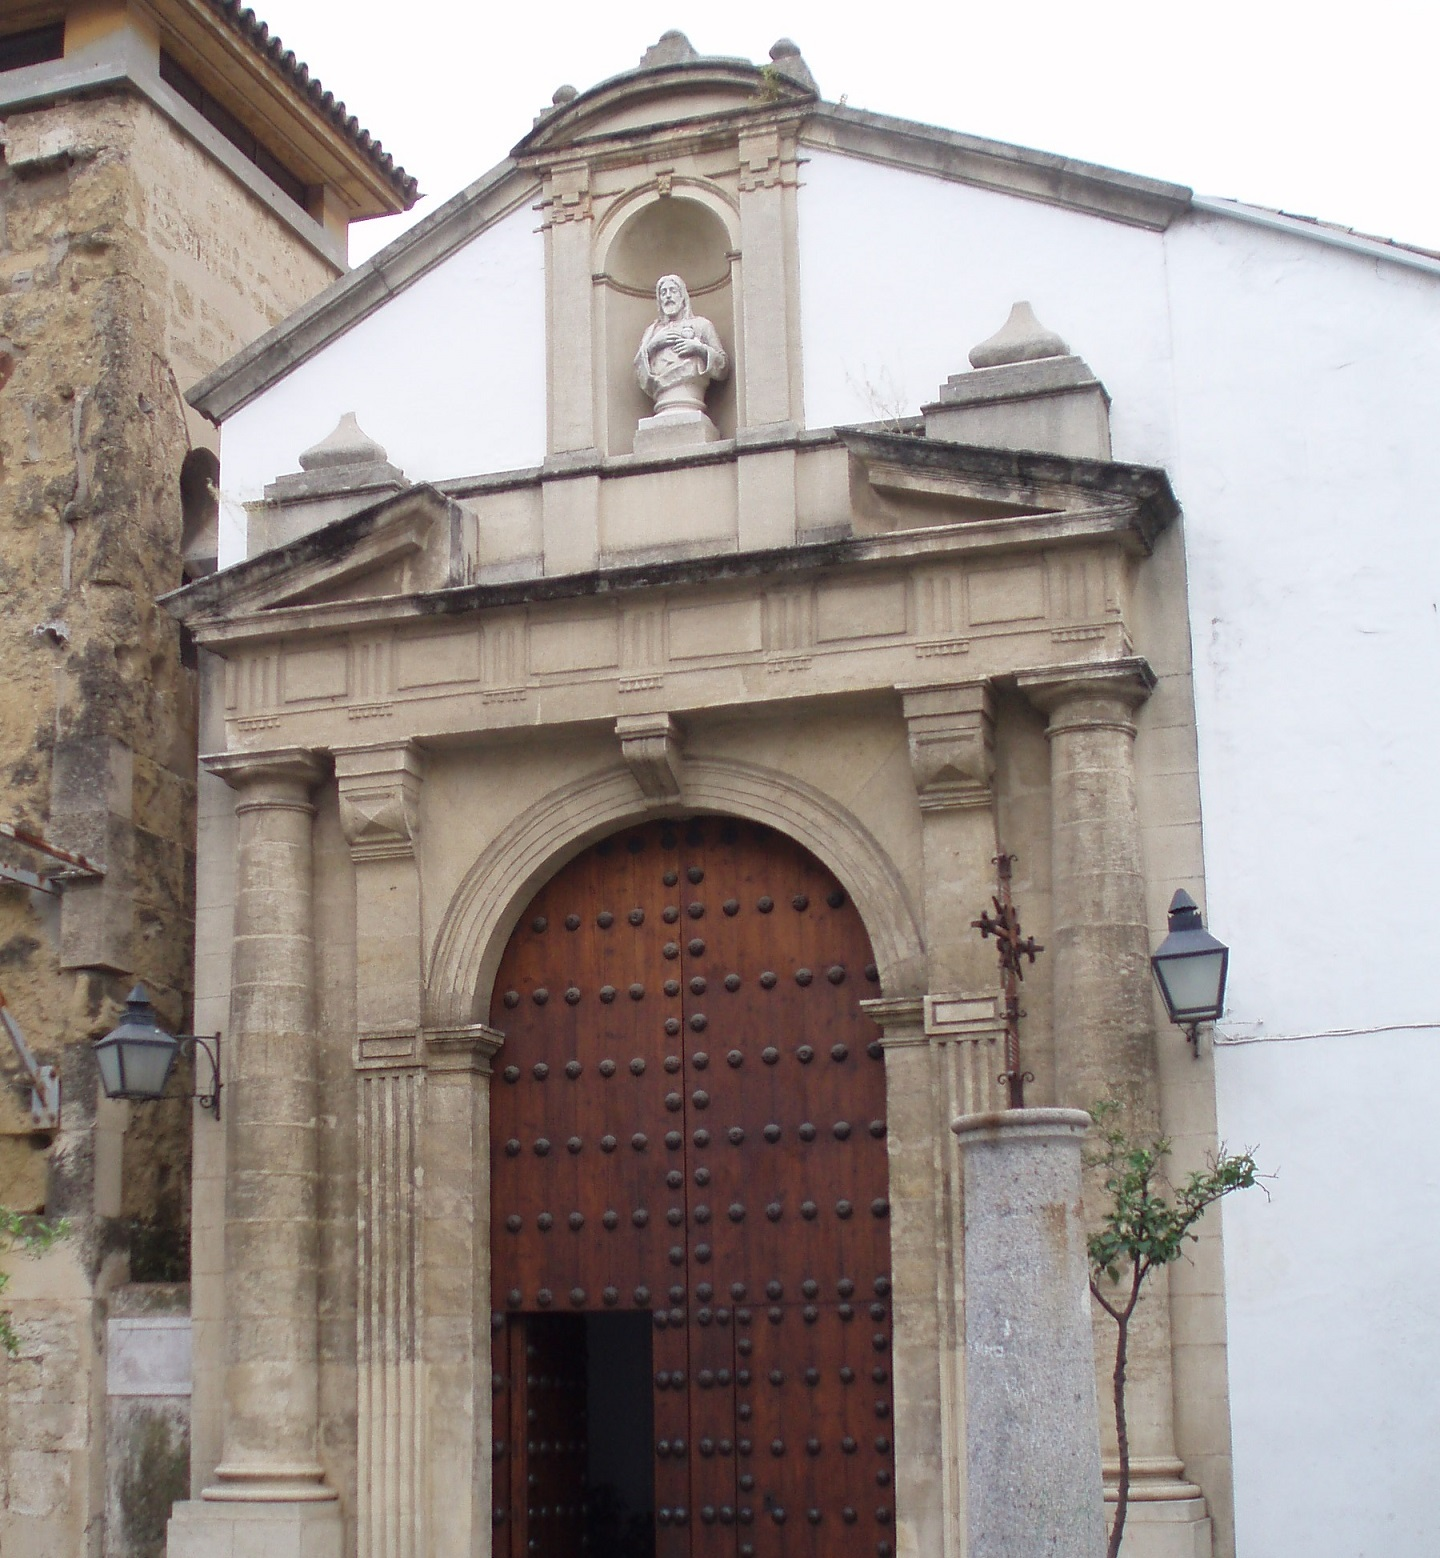arco-medio-punto: (457, 783, 894, 1091)
fronton-curvo: (502, 56, 821, 170)
fronton-partido: (151, 413, 1188, 645)
